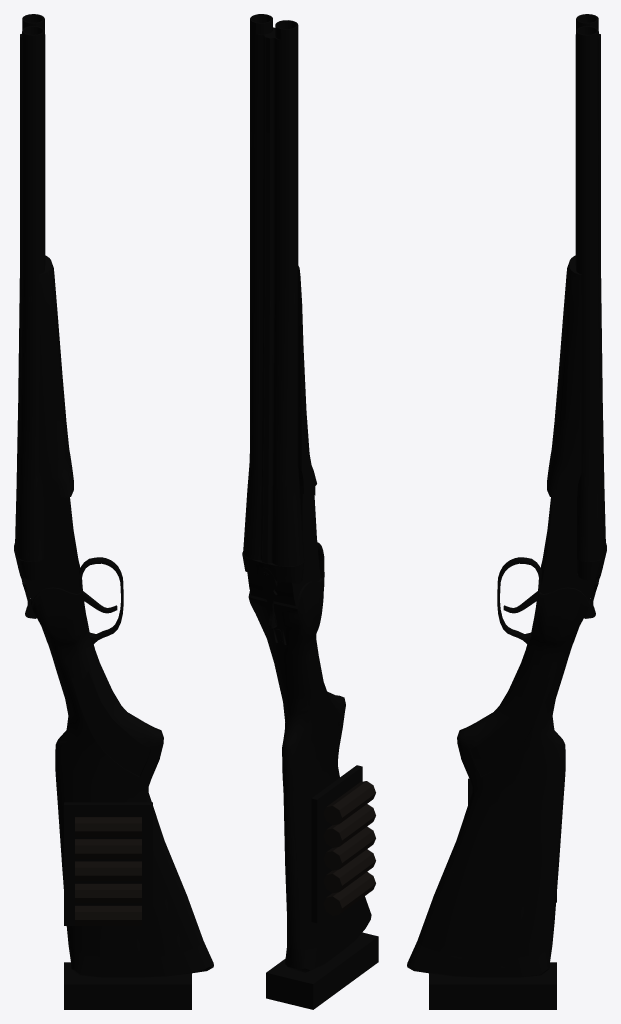
The model's file is CoachGun__RecoilPad_Rubber__ShellHolder_Butt.fbx.
3 renders of one model, left to right at view 1: azimuth 90°, elevation 25°; view 2: azimuth 150°, elevation 25°; view 3: azimuth 270°, elevation 25°, orthographic. The views are drawn at different scales.
Visible parts, largest first — view 1: asset_CoachGun.001; view 2: asset_CoachGun.001; view 3: asset_CoachGun.001.
Part boxes in pixels (x1,y1,x2,y2): asset_CoachGun.001: (14, 14, 213, 1009); asset_CoachGun.001: (242, 14, 378, 1009); asset_CoachGun.001: (407, 14, 606, 1009).
Bounding box in the file's own units: 0.0462 × 0.579 × 0.1077.
